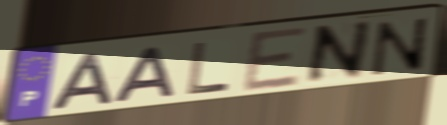A: (46, 51, 117, 113), (111, 44, 178, 105)
E: (241, 25, 310, 96)
L: (186, 40, 233, 96)
N: (301, 17, 374, 89), (369, 16, 430, 78)
